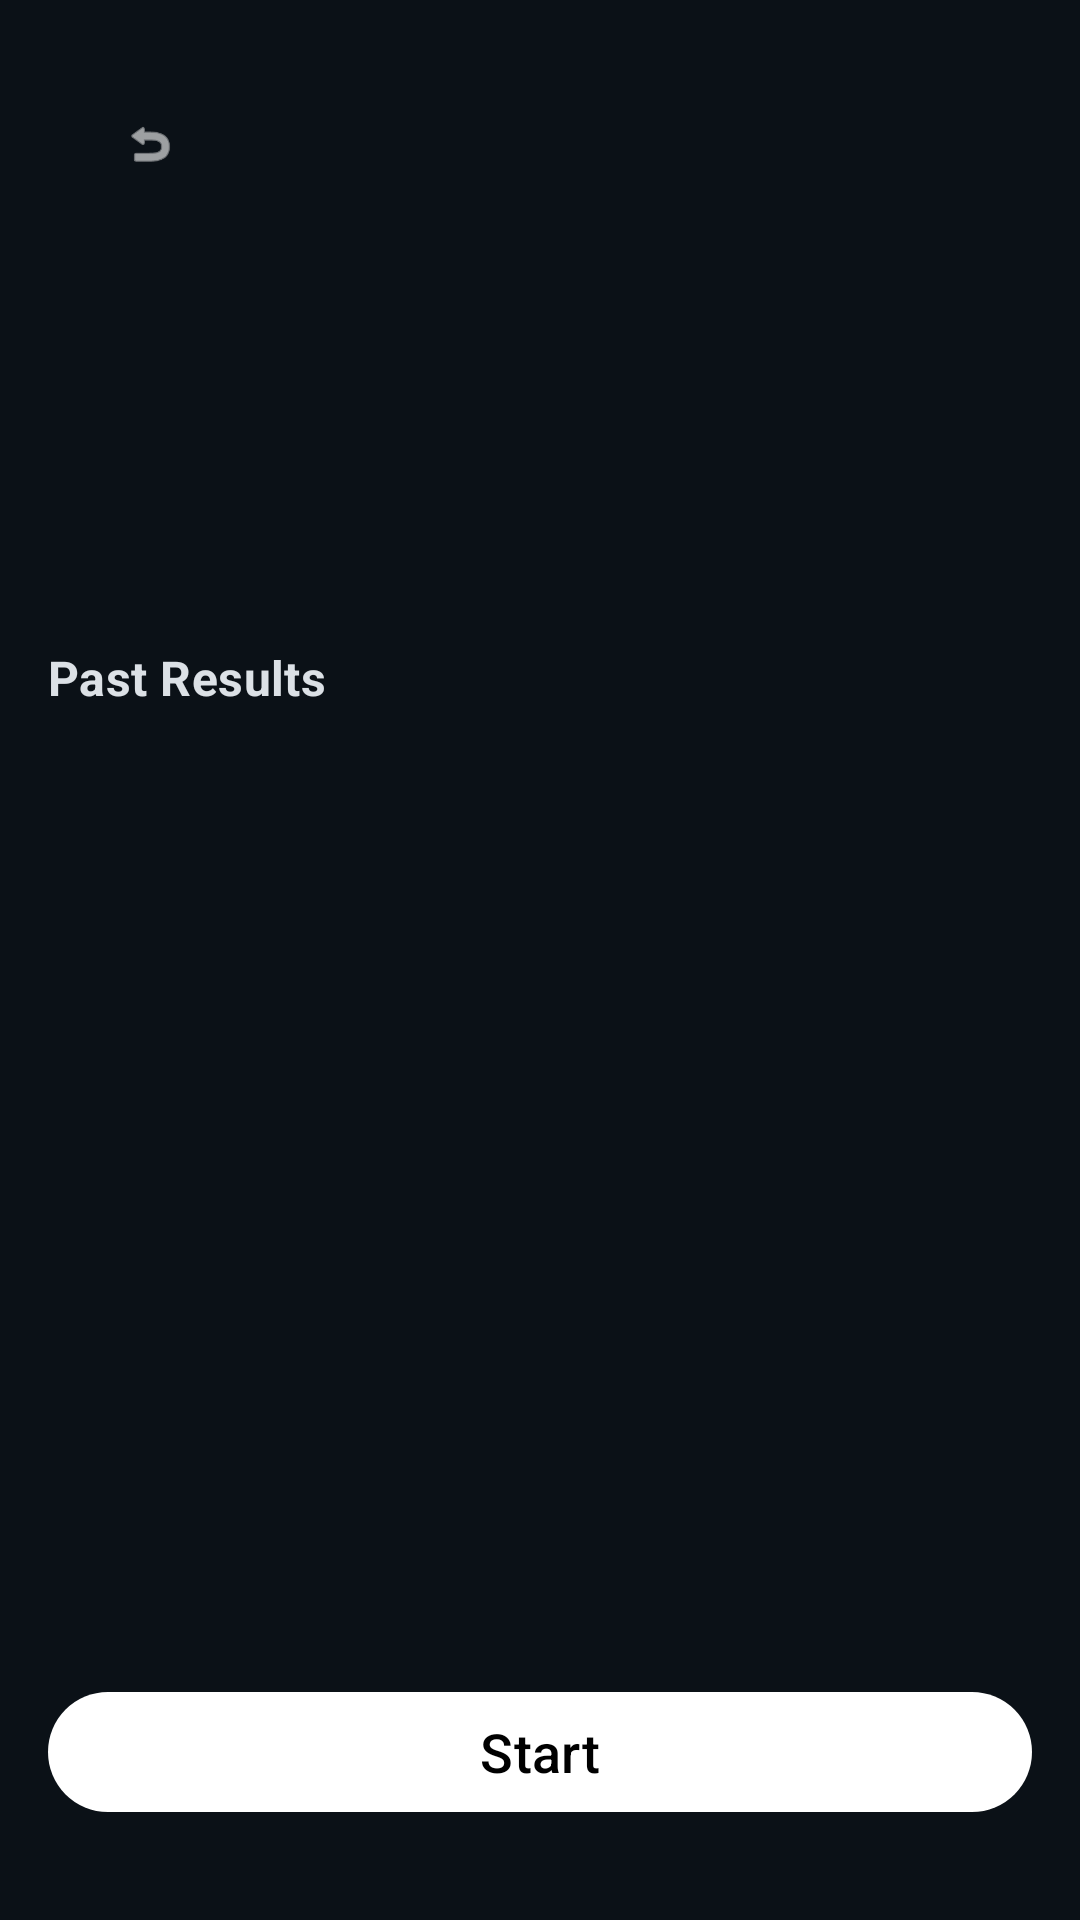

Where icons sit on this 1080px×1920px app screen, as box=[x1, y1, x2, y2]:
Back: box=[131, 127, 170, 162]
